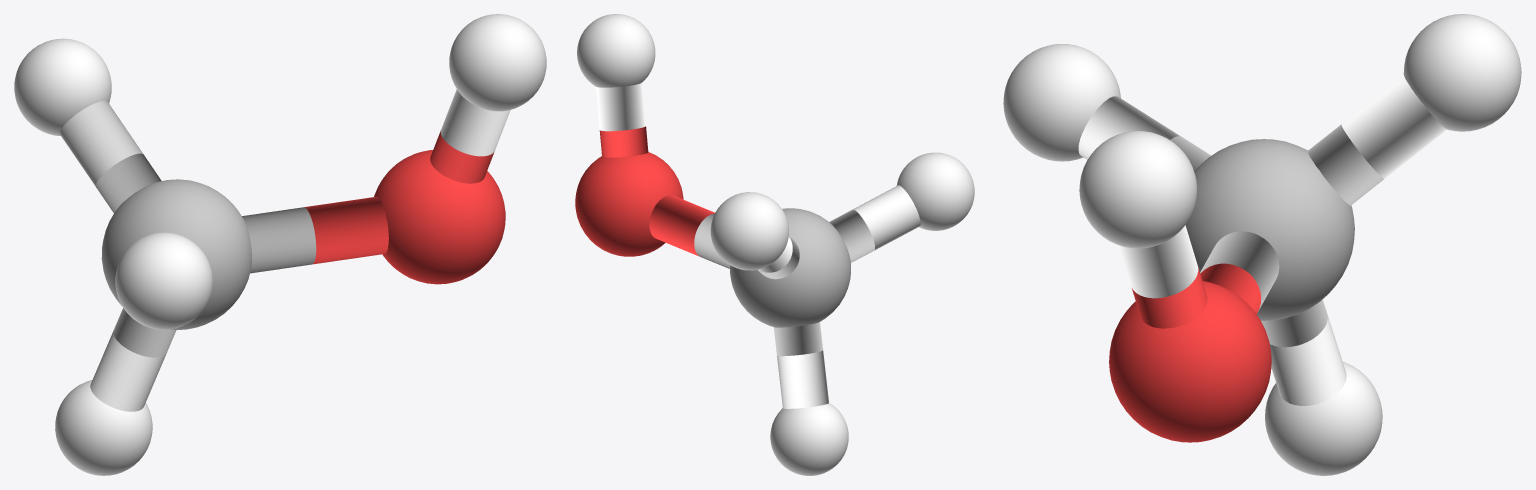
File: methanol_methyl_alcohol_molecule.glb
The picture shows the model from 3 angles, left to right: view 1: azimuth 30°, elevation 25°; view 2: azimuth 150°, elevation 25°; view 3: azimuth 270°, elevation 25°; orthographic projection. The views are drawn at different scales.
Visible parts, largest first — view 1: Object_4, Object_3, Object_2; view 2: Object_4, Object_2, Object_3; view 3: Object_4, Object_2, Object_3.
Part boxes in pixels (box(x1,y1,x2,y2)): Object_4: box(14, 14, 546, 475); Object_3: box(304, 130, 505, 284); Object_2: box(95, 153, 316, 357); Object_4: box(577, 14, 974, 475); Object_2: box(694, 208, 874, 356); Object_3: box(575, 126, 714, 256); Object_4: box(1003, 14, 1521, 475); Object_2: box(1170, 124, 1383, 347); Object_3: box(1109, 263, 1271, 442).
Size of the model in its own units: 2.69 by 2.47 by 2.22.
